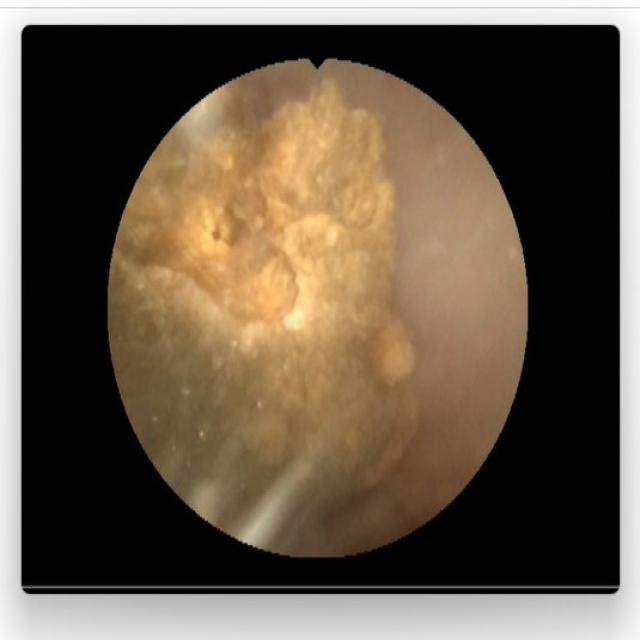stone: (116, 86, 413, 547)
